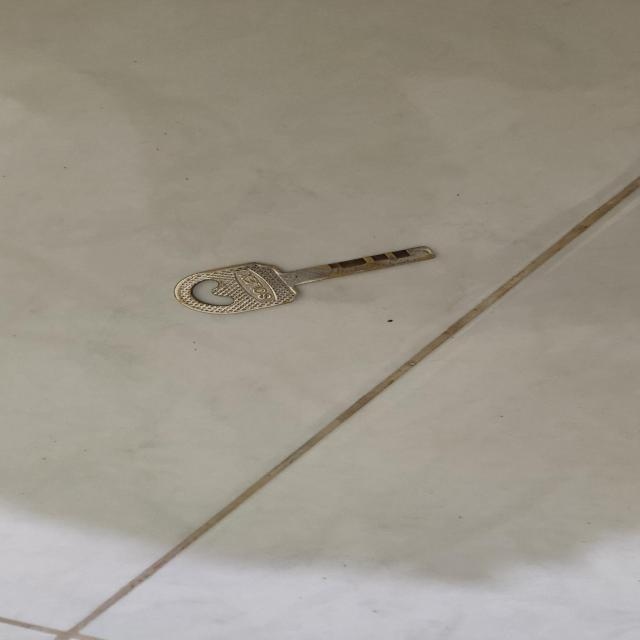kunci_pagar: (164, 234, 444, 322)
